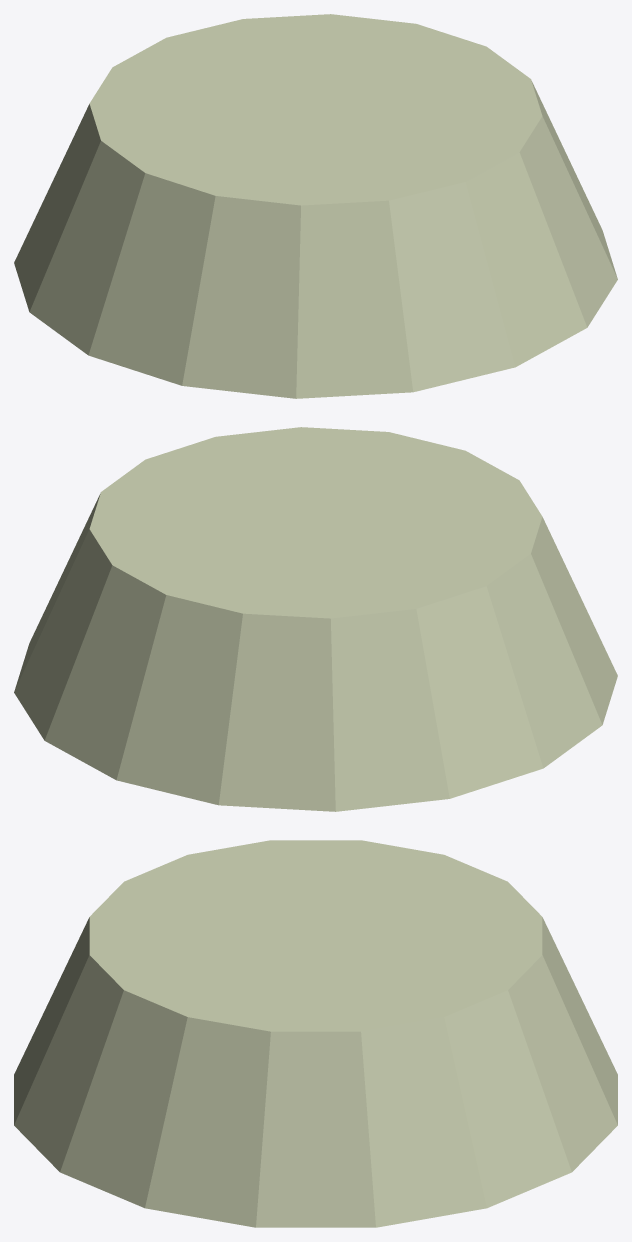
File: aquila_adapter_s2_s1p5_1_collider.obj
The picture shows the model from 3 angles, top to bottom: view 1: azimuth 30°, elevation 25°; view 2: azimuth 150°, elevation 25°; view 3: azimuth 270°, elevation 25°; orthographic projection.
Parts seen in each view (by area): view 1: aquila_adapter_s2_s1p5_1_collider; view 2: aquila_adapter_s2_s1p5_1_collider; view 3: aquila_adapter_s2_s1p5_1_collider.
Boxes of the visible parts, <box> form: aquila_adapter_s2_s1p5_1_collider: <box>14,14,617,398</box>; aquila_adapter_s2_s1p5_1_collider: <box>14,427,617,811</box>; aquila_adapter_s2_s1p5_1_collider: <box>14,840,617,1227</box>.
Bounding box in the file's own units: 2.5 × 0.75 × 2.5.
